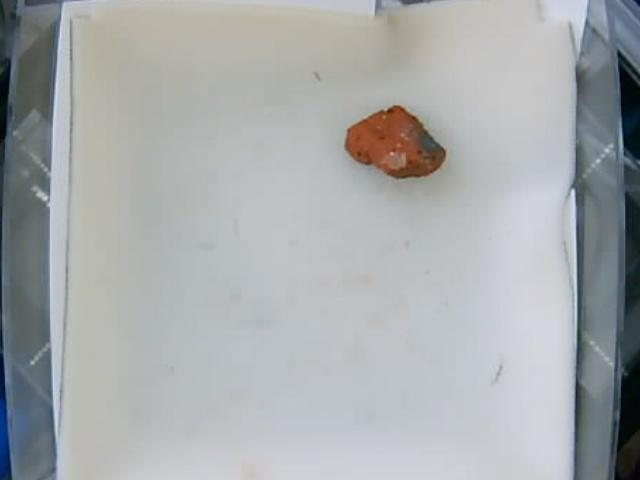Brisk: (341, 101, 446, 176)
